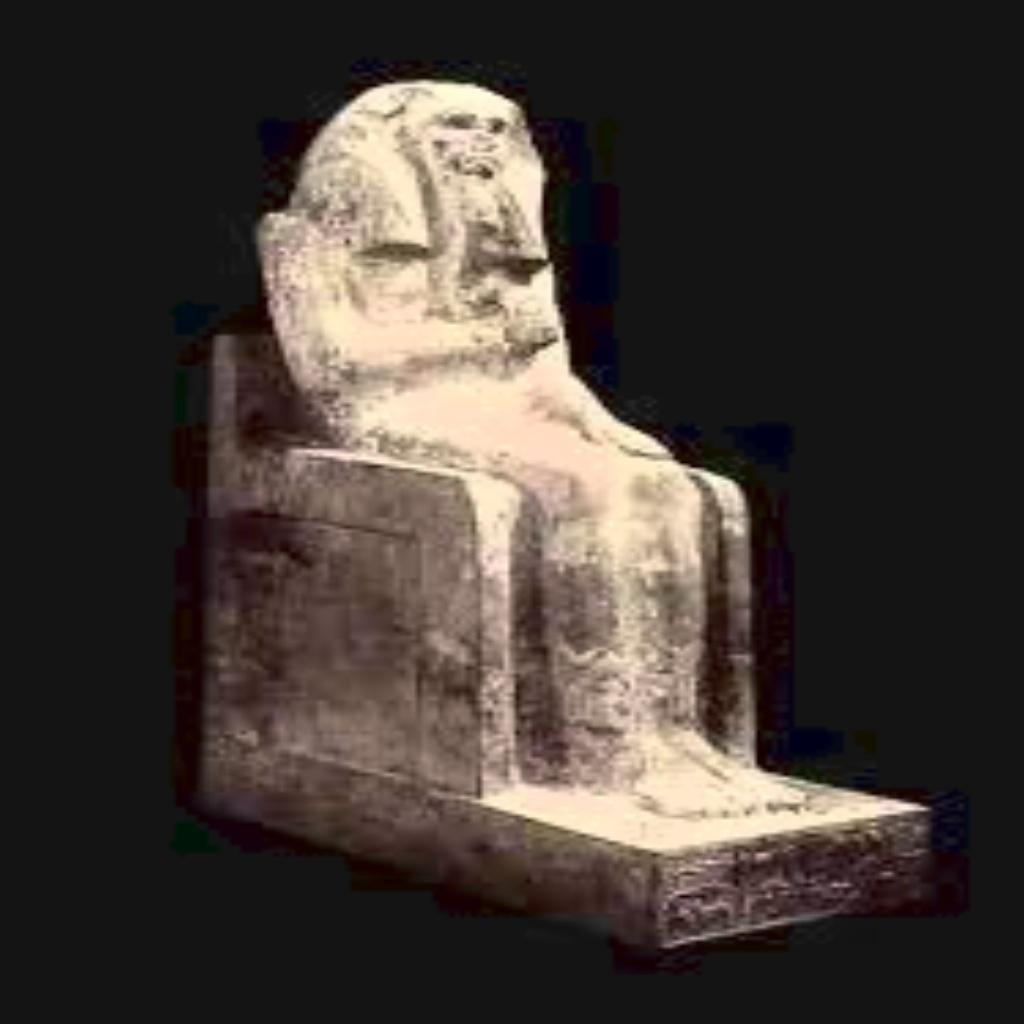Statue of King Zoser: (175, 68, 942, 952)
